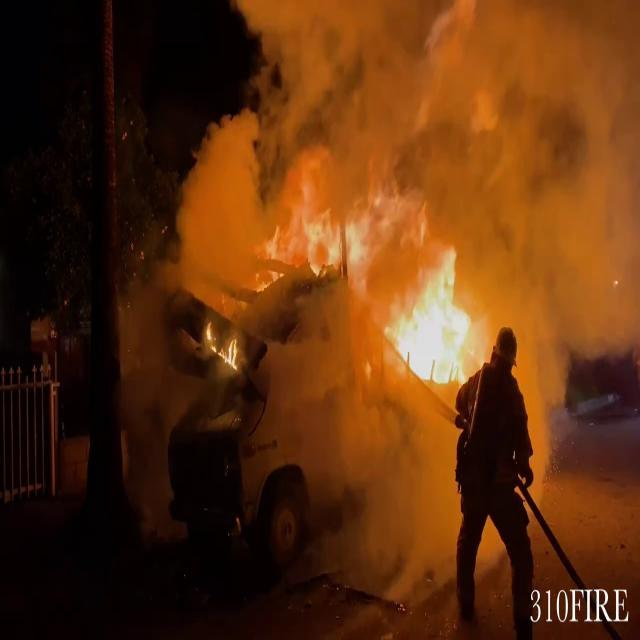Fire: (380, 245, 484, 388)
Smoke: (181, 0, 640, 340)
